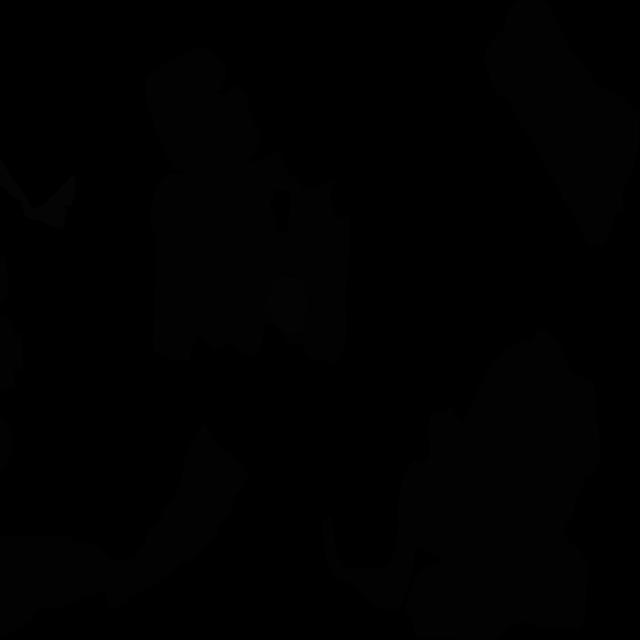cardboard: (0, 423, 248, 639), (397, 327, 601, 560), (150, 64, 303, 362), (484, 0, 640, 246), (405, 540, 588, 640), (277, 180, 350, 363), (145, 46, 226, 172), (322, 515, 416, 610), (0, 315, 23, 391), (0, 415, 14, 472), (0, 255, 9, 304)
metal: (265, 276, 309, 333)
soft_plastic: (0, 157, 75, 227)
